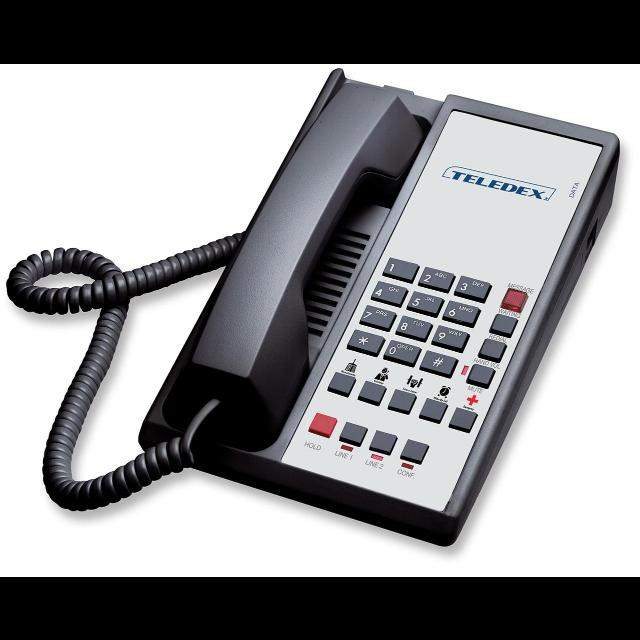Telephone-Set: (95, 74, 640, 554)
